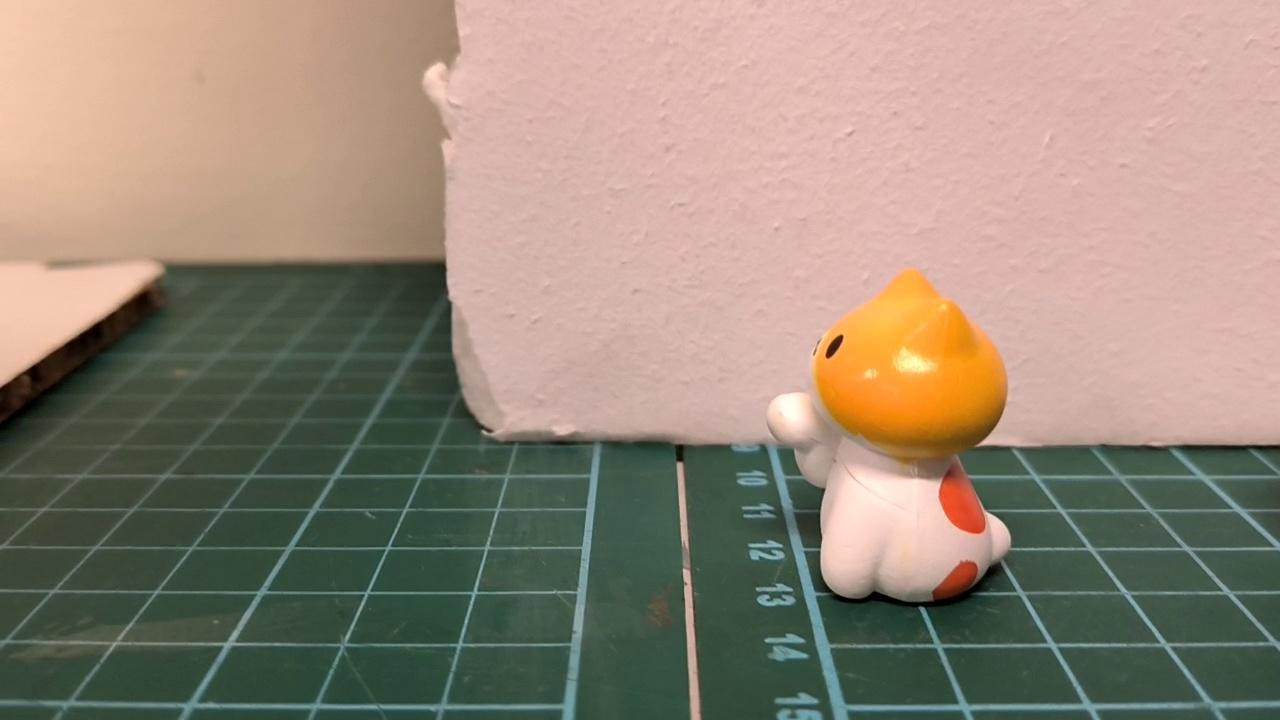pet: (763, 262, 1020, 605)
